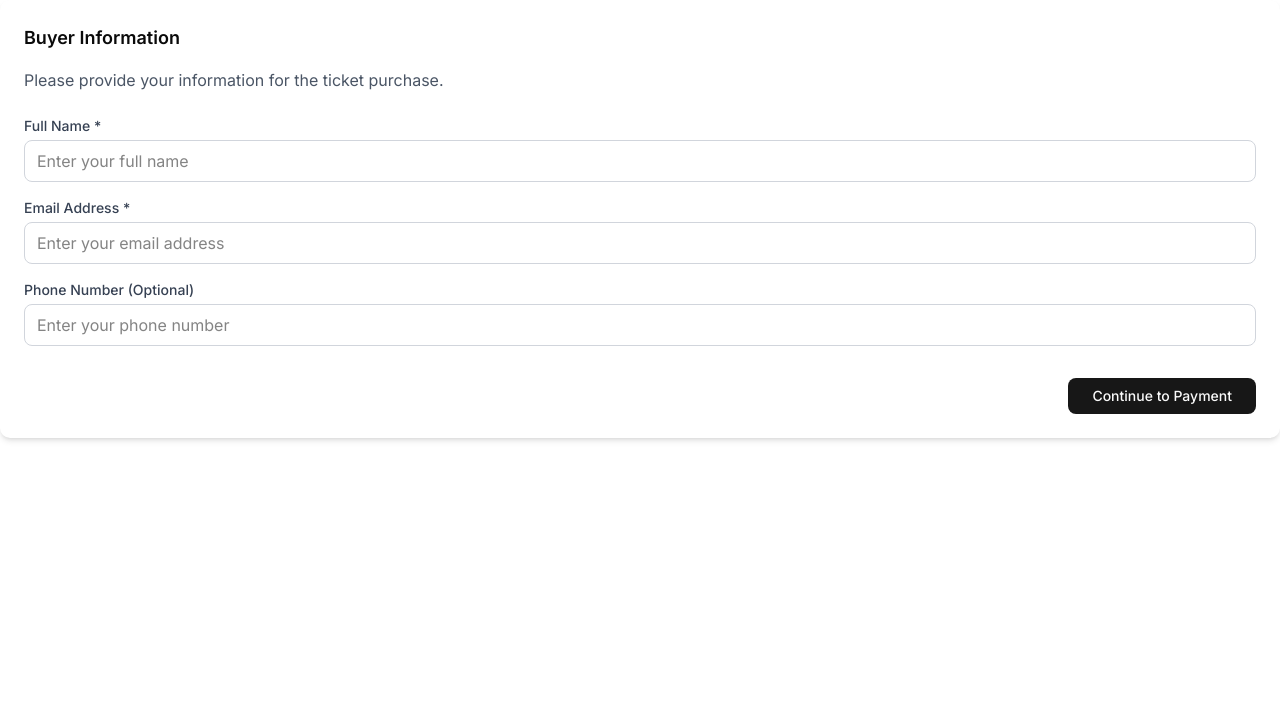
Test: BuyerInfoForm component › validates phone number format
Fill in invalid phone number
Step 1. Type "invalid-phone" into the field labelled "Phone Number (Optional)" → (640, 325), box [24,304,1256,346]
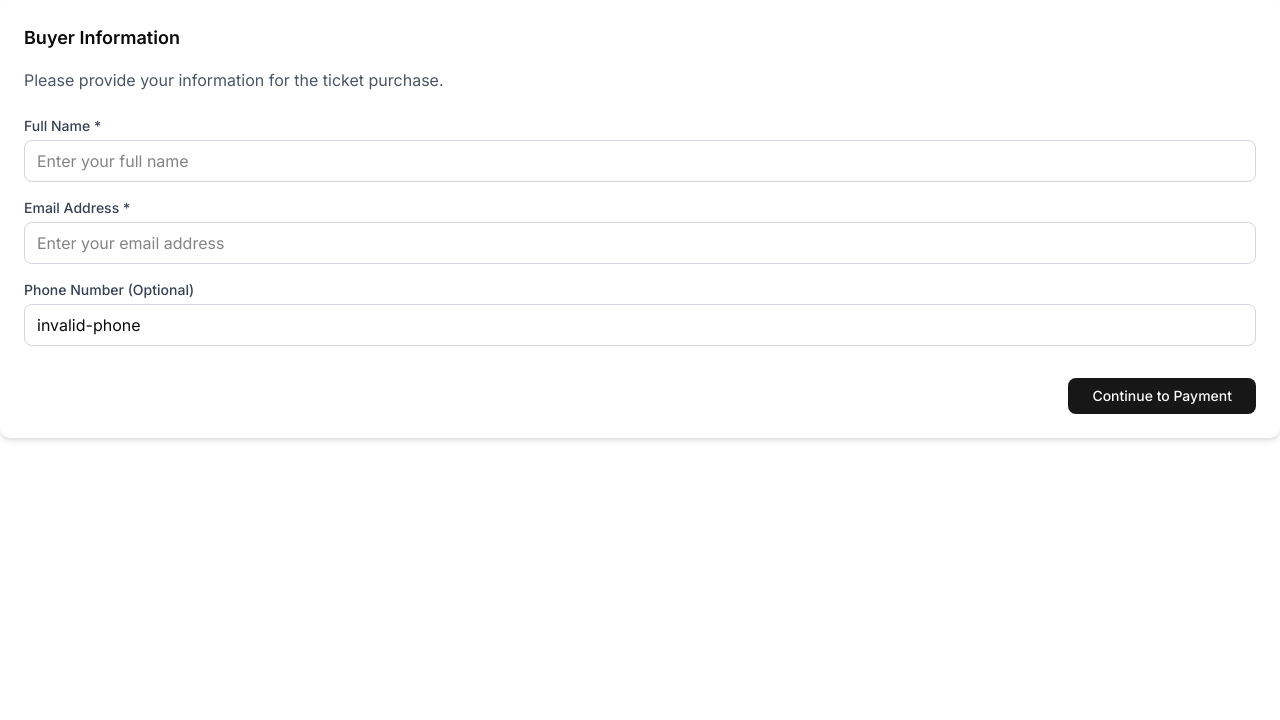
Try to submit
Step 2. Click the button "Continue to Payment" → click(1162, 396), box [1068,378,1256,414]
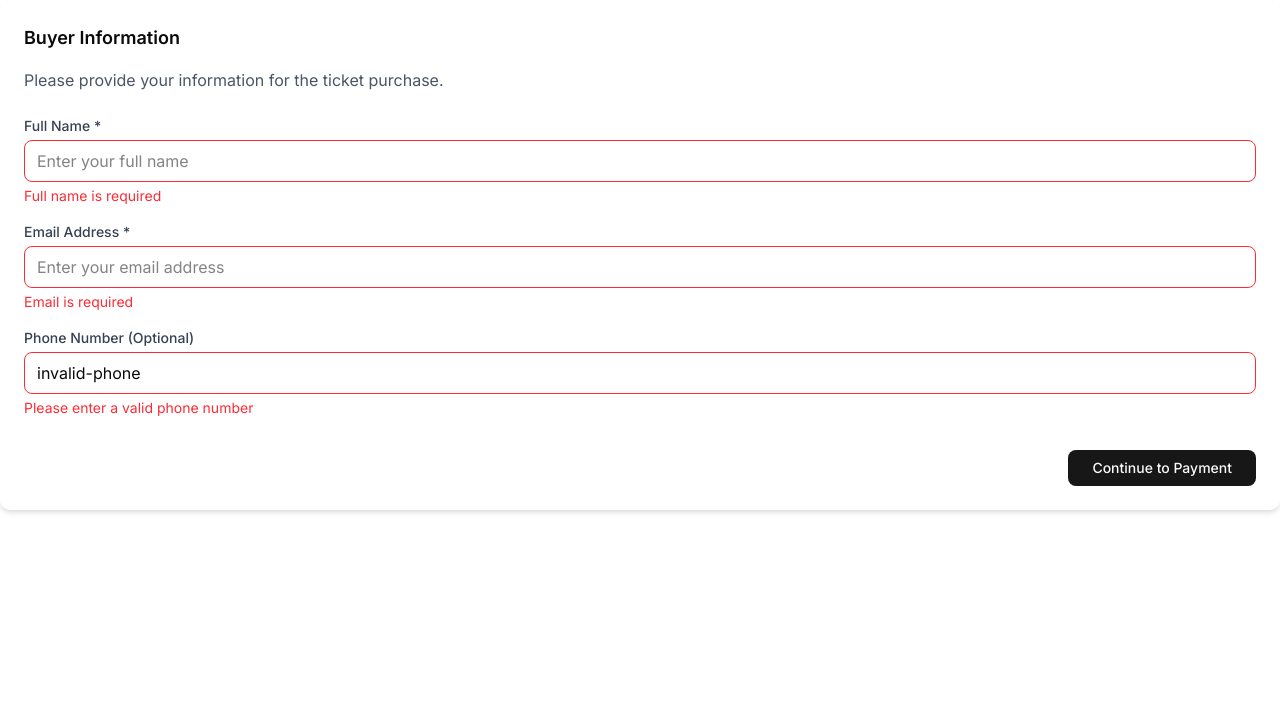
Check: the text "Please enter a valid phone number" is shown, box [24,399,253,416]
